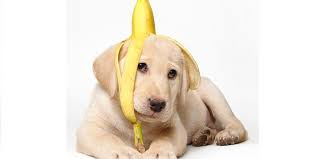dog: (133, 56, 179, 121)
